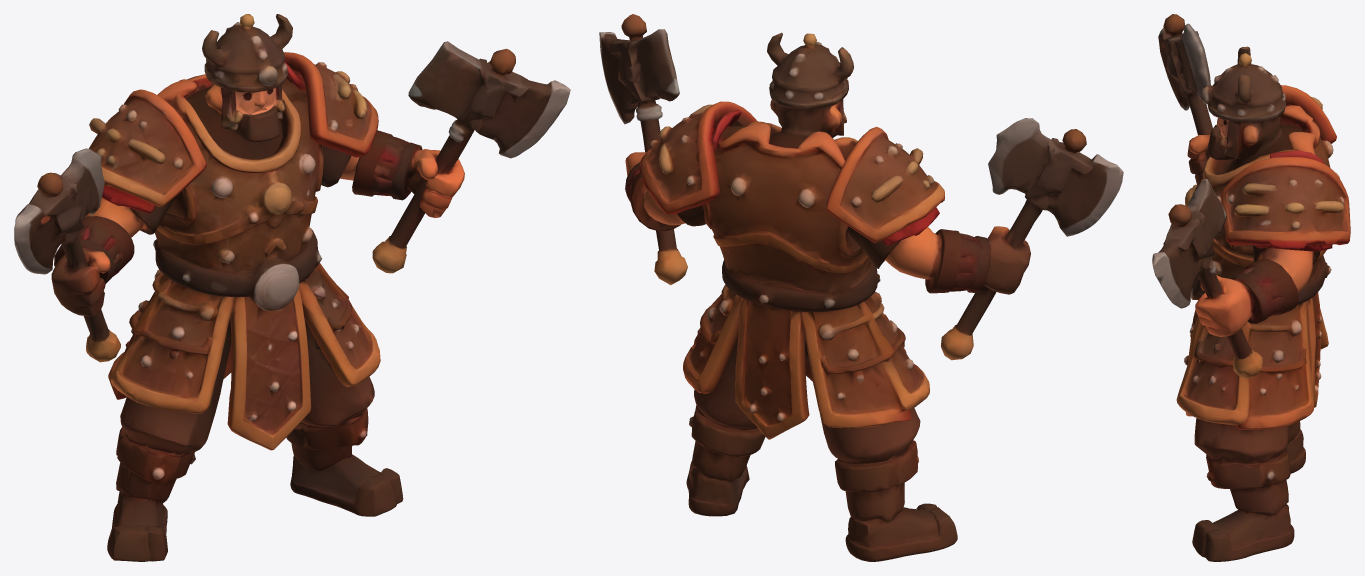
Rendered from hero_bahadir.glb.
3 renders of one model, left to right at view 1: azimuth 30°, elevation 25°; view 2: azimuth 150°, elevation 25°; view 3: azimuth 270°, elevation 25°, orthographic. The views are drawn at different scales.
Parts seen in each view (by area): view 1: tripo_node_11a8d44b-4eda-4bb2-904e-77283608ddce; view 2: tripo_node_11a8d44b-4eda-4bb2-904e-77283608ddce; view 3: tripo_node_11a8d44b-4eda-4bb2-904e-77283608ddce.
Part boxes in pixels (box(x1,y1,x2,y2)): tripo_node_11a8d44b-4eda-4bb2-904e-77283608ddce: box(14, 14, 570, 561); tripo_node_11a8d44b-4eda-4bb2-904e-77283608ddce: box(599, 14, 1123, 561); tripo_node_11a8d44b-4eda-4bb2-904e-77283608ddce: box(1152, 14, 1350, 561).
Bounding box in the file's own units: 1 × 0.8758 × 0.3503.
Materials: 1 (1 with a texture image).
